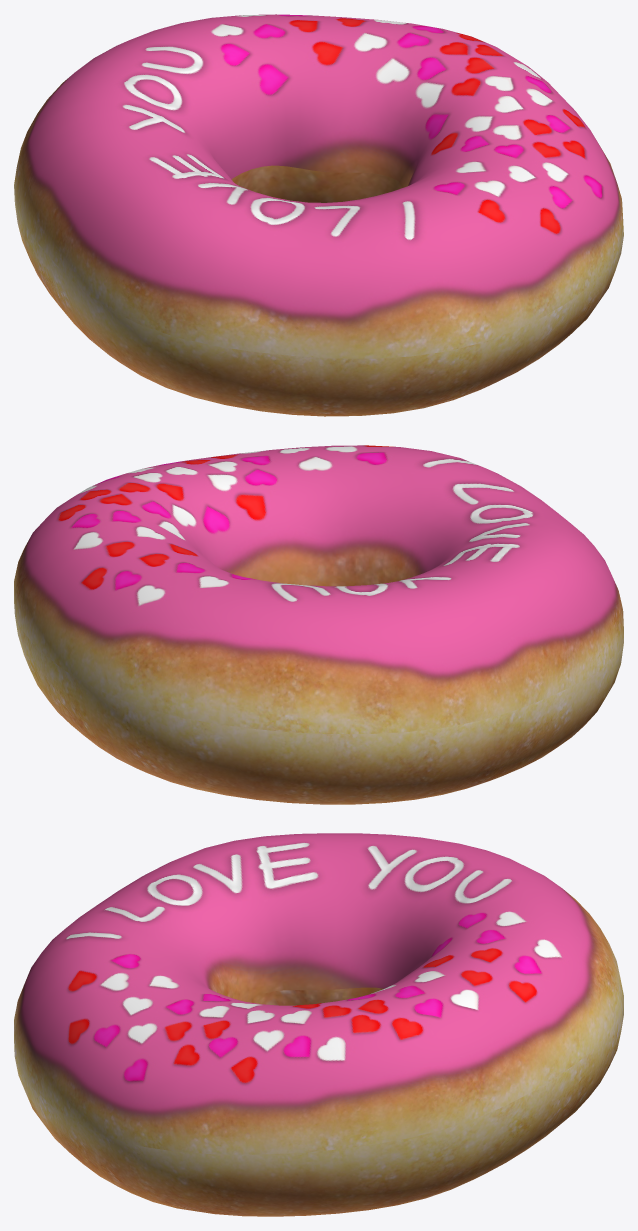
Rendered from Donut12.obj.
3 views of the same model, one above another, from view 1: azimuth 30°, elevation 25°; view 2: azimuth 150°, elevation 25°; view 3: azimuth 270°, elevation 25° (orthographic).
Visible parts, largest first — view 1: donut082; view 2: donut082; view 3: donut082.
Boxes of the visible parts, bbox=[...] form: donut082: bbox=[14, 14, 623, 416]; donut082: bbox=[14, 445, 623, 804]; donut082: bbox=[14, 833, 623, 1216].
Size of the model in its own units: 9.35 by 3.88 by 9.66.
1 material, 1 textured.
